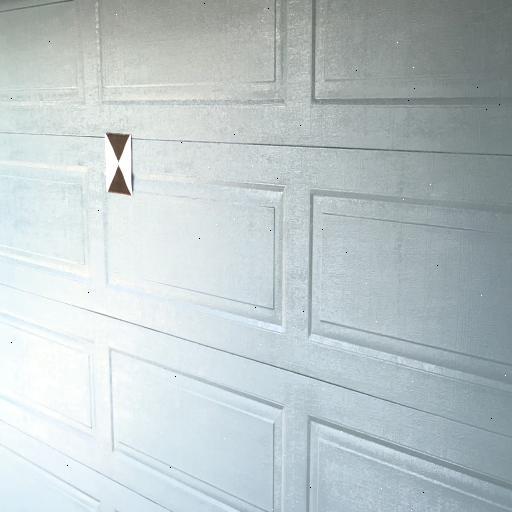target: (104, 134, 133, 194)
